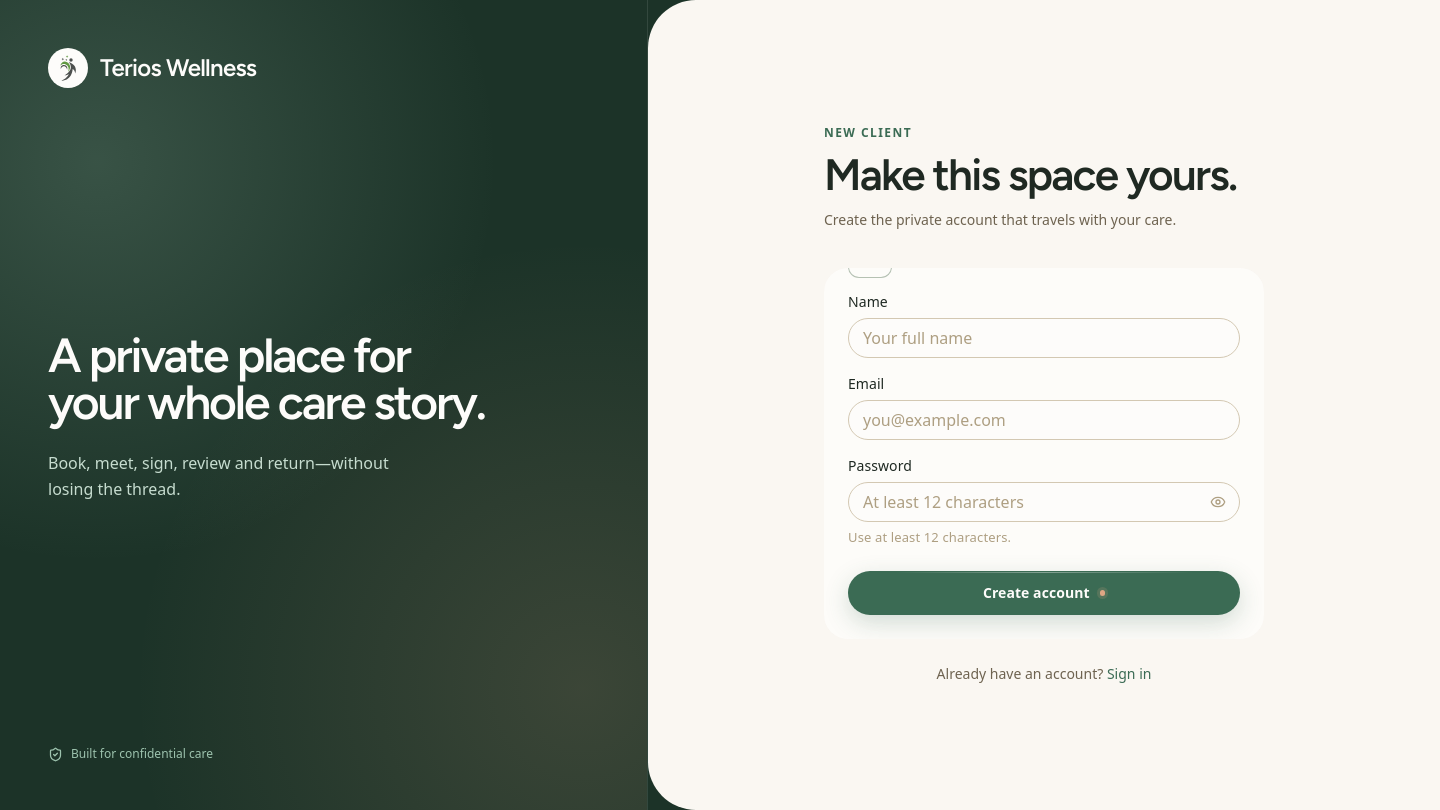
Test: RegisterPage › shows the brand-voice banner when the email is already taken
Type "Ama Serwaa" into the field labelled "Name". click: (1044, 338)
box: [848, 318, 1240, 358]
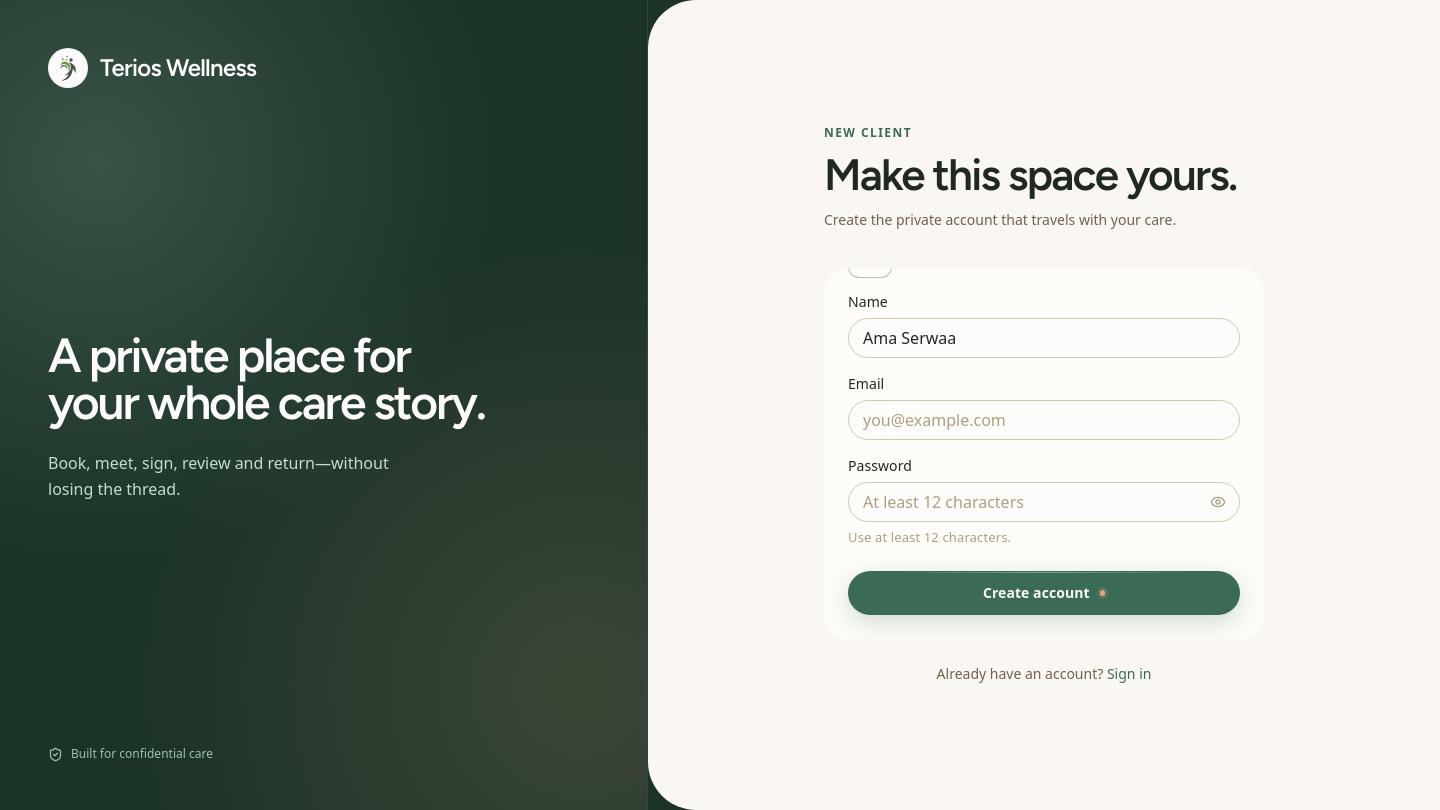
Type "ama@example.com" into the field labelled "Email". click: (1044, 420)
box: [848, 400, 1240, 440]
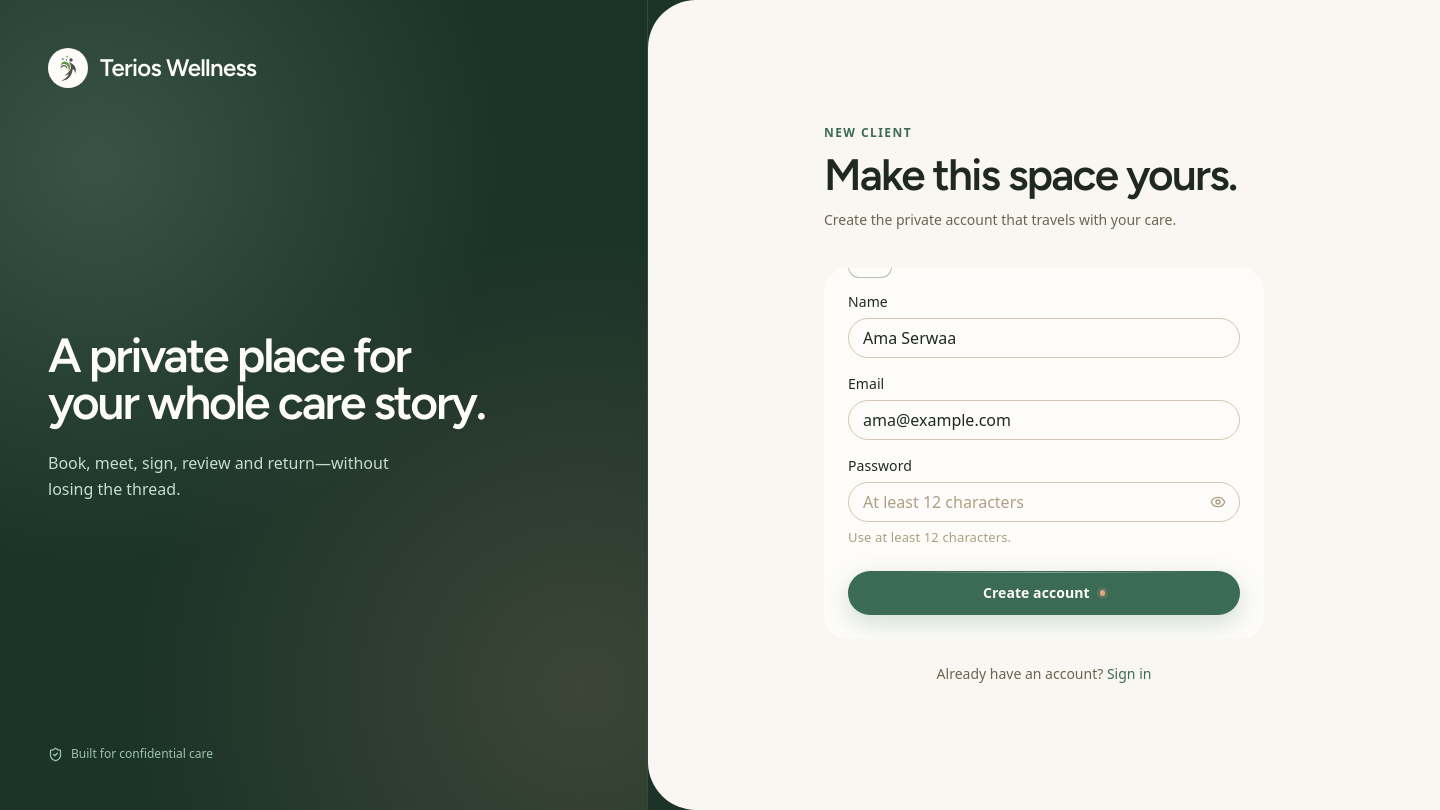
Type "twelve-chars-1" into the password field labelled "Password". click: (1044, 502)
box: [848, 482, 1240, 522]
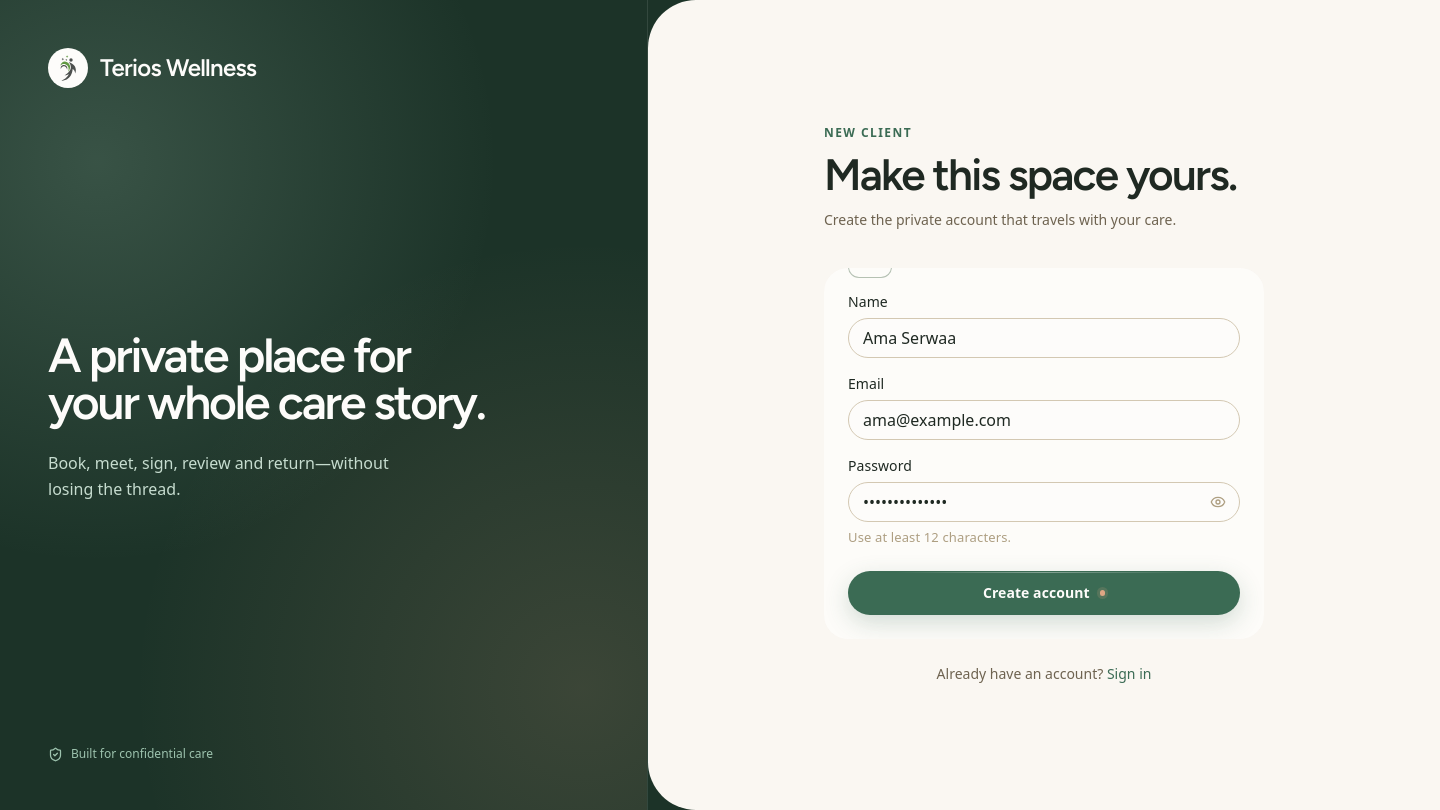
Submit the form "Create account", box [848, 292, 1240, 615]
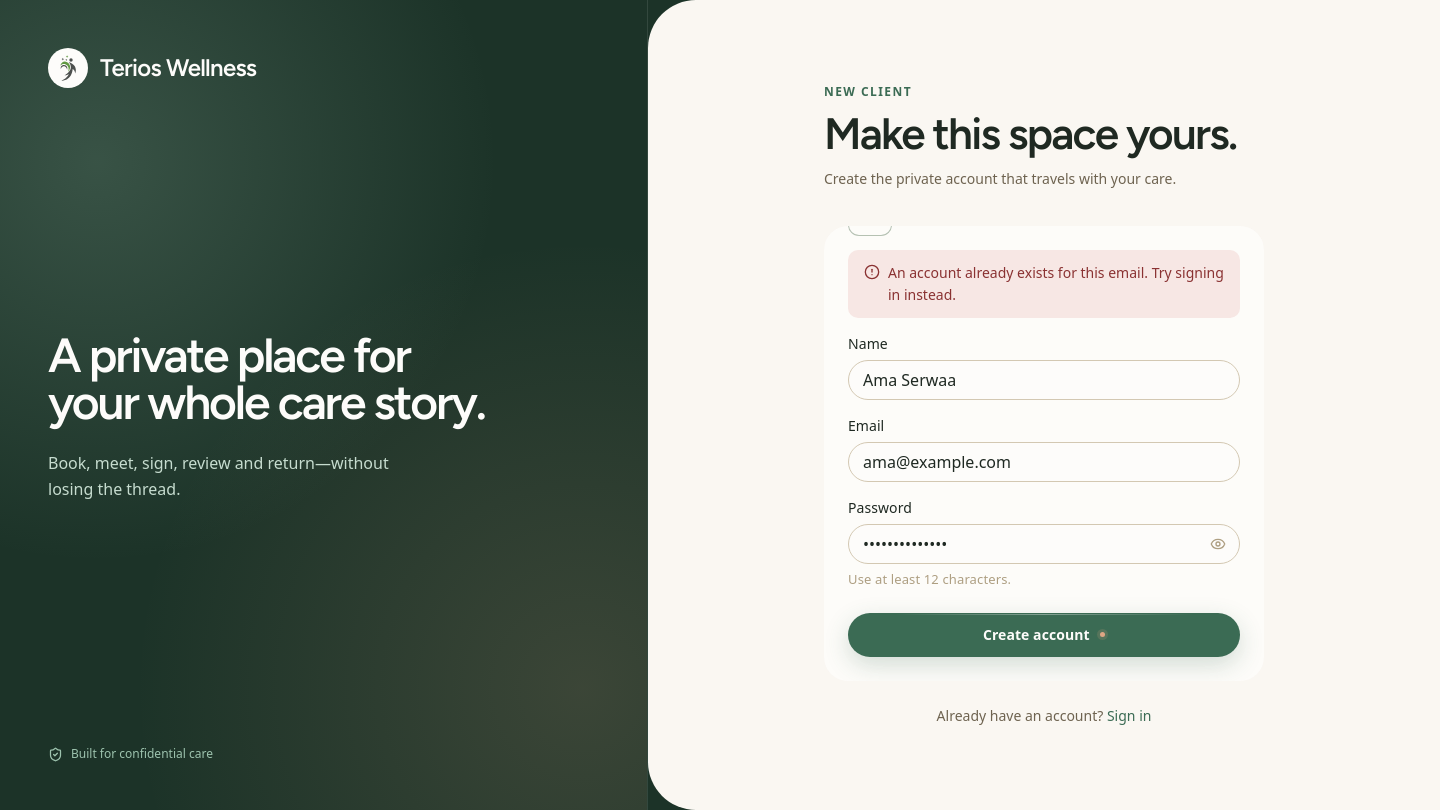
Result: the message reads "An account already exists for this email. Try signing in instead." at [888, 263, 1224, 304]
